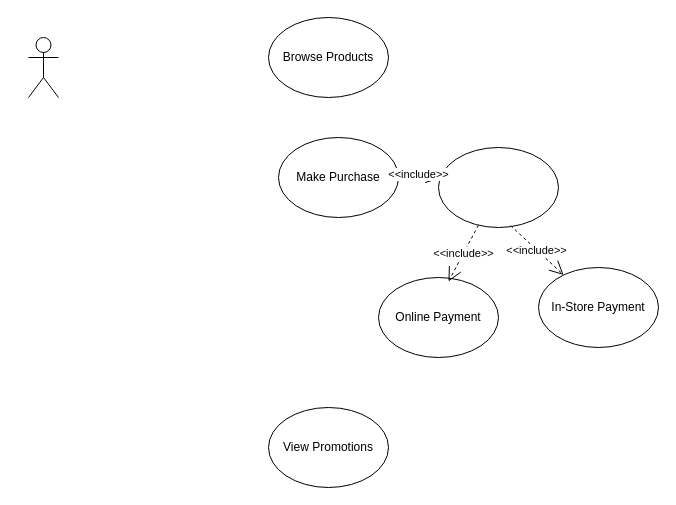
Image size: 676x505. Some labels were removed from this diagram. The centre of each missing label's shape, as x and y in pixels:
"Customer" belongs at [43,67].
"Make Payment" belongs at [498,187].
